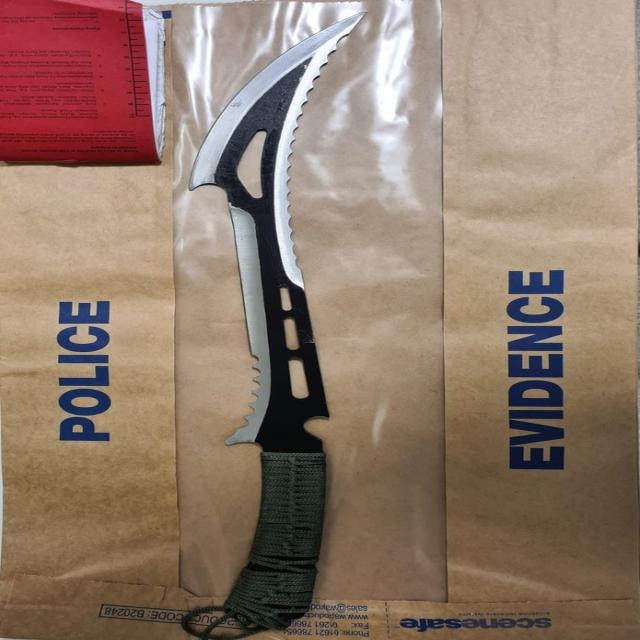Sharp-Object: (195, 14, 368, 636)
